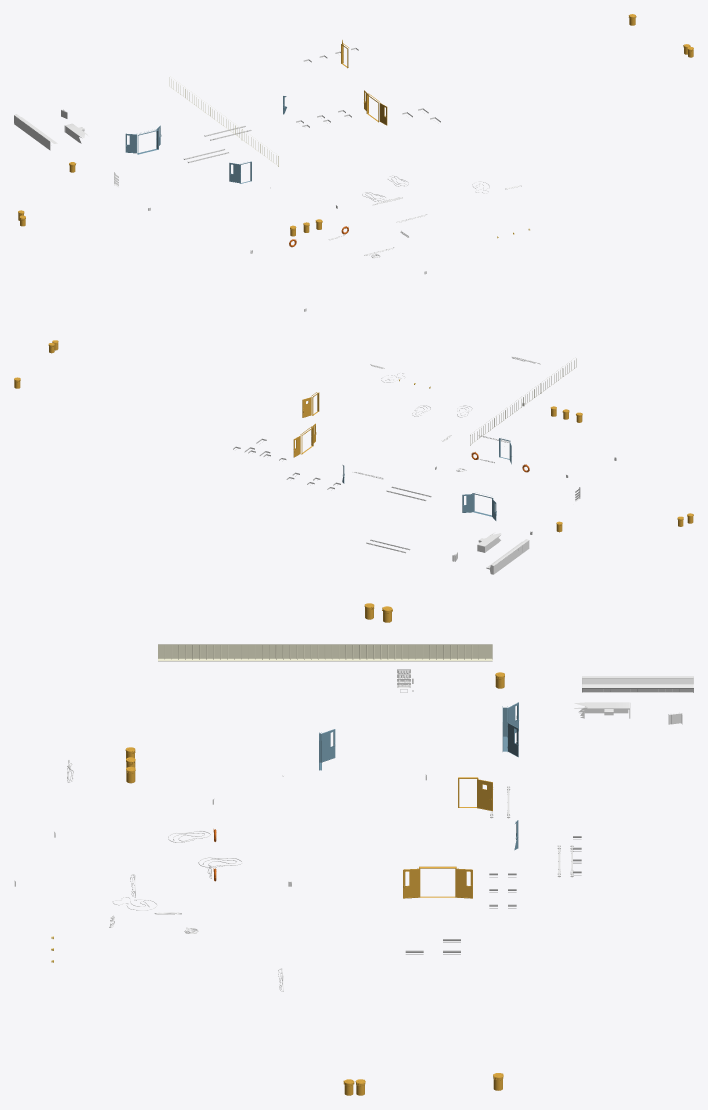
The picture shows the model from 3 angles, top to bottom: view 1: azimuth 30°, elevation 25°; view 2: azimuth 150°, elevation 25°; view 3: azimuth 270°, elevation 25°; orthographic projection. The views are drawn at different scales.
Visible parts, largest first — view 1: n0_lr0_agg_merge_nuke_office_desk_color_0_fragment1_c-1_-1, n0_lr0_agg_merge_metal_door_001_0_fragment2_c0_0, n0_lr0_agg_merge_window_001b_1_fragment2, n0_lr0_agg_merge_metal_door_001_0_fragment17_c1_0; view 2: n0_lr0_agg_merge_nuke_office_desk_color_0_fragment1_c-1_-1, n0_lr0_agg_merge_metal_door_001_0_fragment17_c1_0, n0_lr0_agg_merge_metal_door_001_0_fragment2_c0_0, n0_lr0_agg_merge_window_001b_1_fragment2; view 3: n0_lr0_agg_merge_window_001b_1_fragment2, n0_lr0_agg_merge_nuke_office_desk_color_0_fragment1_c-1_-1, n0_lr0_agg_merge_metal_door_001_0_fragment17_c1_0, n0_lr0_agg_merge_metal_door_001_0_fragment2_c0_0.
Part boxes in pixels (box(x1,y1,x2,y2)): n0_lr0_agg_merge_nuke_office_desk_color_0_fragment1_c-1_-1: box(14, 109, 88, 150); n0_lr0_agg_merge_metal_door_001_0_fragment2_c0_0: box(125, 96, 286, 183); n0_lr0_agg_merge_window_001b_1_fragment2: box(169, 76, 278, 166); n0_lr0_agg_merge_metal_door_001_0_fragment17_c1_0: box(341, 40, 387, 125); n0_lr0_agg_merge_nuke_office_desk_color_0_fragment1_c-1_-1: box(452, 532, 529, 574); n0_lr0_agg_merge_metal_door_001_0_fragment17_c1_0: box(293, 392, 319, 457); n0_lr0_agg_merge_metal_door_001_0_fragment2_c0_0: box(342, 438, 511, 520); n0_lr0_agg_merge_window_001b_1_fragment2: box(470, 358, 576, 445); n0_lr0_agg_merge_window_001b_1_fragment2: box(158, 644, 492, 661); n0_lr0_agg_merge_nuke_office_desk_color_0_fragment1_c-1_-1: box(574, 676, 693, 724); n0_lr0_agg_merge_metal_door_001_0_fragment17_c1_0: box(403, 777, 492, 898); n0_lr0_agg_merge_metal_door_001_0_fragment2_c0_0: box(319, 702, 518, 850).
Bounding box in the file's own units: 4067 × 785 × 2341.
